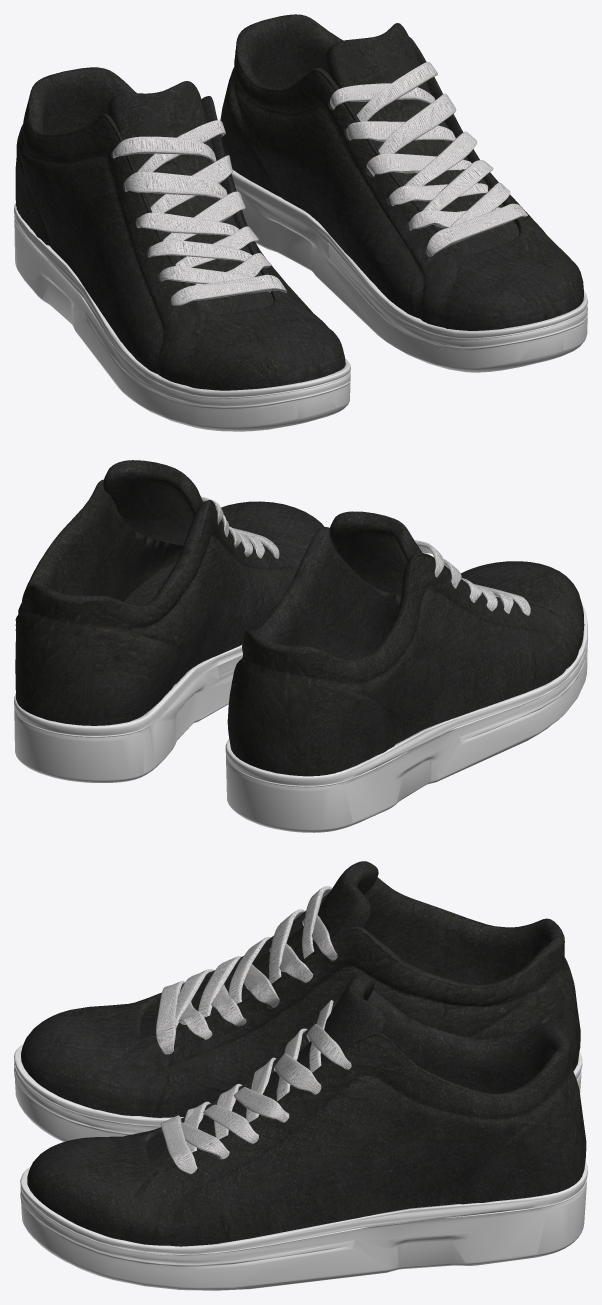
File: shoes.FBX
The picture shows the model from 3 angles, top to bottom: view 1: azimuth 30°, elevation 25°; view 2: azimuth 150°, elevation 25°; view 3: azimuth 270°, elevation 25°; orthographic projection. The views are drawn at different scales.
Visible parts, largest first — view 1: Object002, Object005, Object001, Object006, Object003, Object004; view 2: Object005, Object002, Object006, Object001, Object004, Object003; view 3: Object002, Object005, Object001, Object004, Object003, Object006.
Boxes of the visible parts, x1,y1,x2,y2 form: Object002: [220, 14, 583, 330]; Object005: [15, 67, 345, 390]; Object001: [231, 170, 587, 372]; Object006: [14, 203, 350, 431]; Object003: [330, 62, 527, 256]; Object004: [112, 120, 286, 305]; Object005: [227, 511, 584, 776]; Object002: [15, 460, 324, 725]; Object006: [225, 601, 587, 832]; Object001: [14, 645, 242, 782]; Object004: [414, 540, 530, 615]; Object003: [201, 496, 279, 558]; Object002: [27, 973, 586, 1246]; Object005: [21, 861, 580, 1117]; Object001: [20, 1161, 587, 1290]; Object004: [156, 886, 337, 1054]; Object003: [160, 1000, 351, 1174]; Object006: [14, 1045, 582, 1141].
Size of the model in its own units: 25.05 by 13.69 by 28.01.
